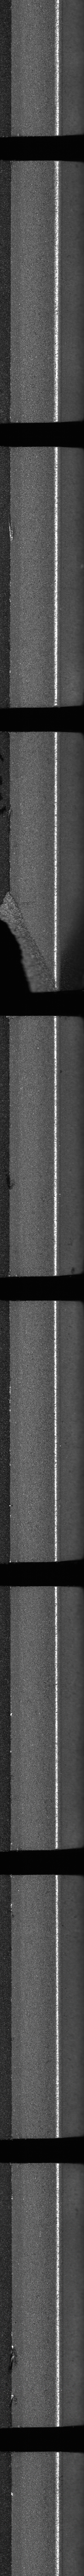Chip: (0, 887, 58, 992)
